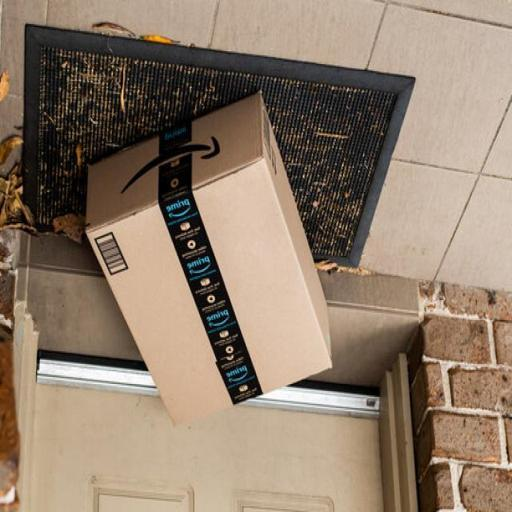Amazon: (87, 88, 336, 419)
